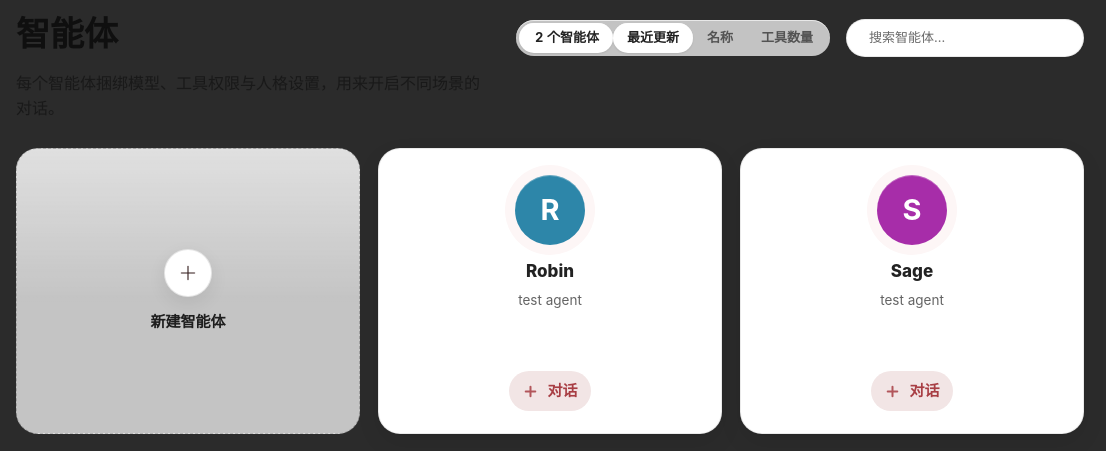
Test: AgentsPage — browse view › typing in the search input filters the visible card list
Expected: the number of elements with class "agent-card" is 2, [378, 148, 722, 434]; [740, 148, 1084, 434]
Type "rob" into the search field labelled "搜索智能体".
click(970, 38); type("rob")  # box [869, 28, 1071, 48]
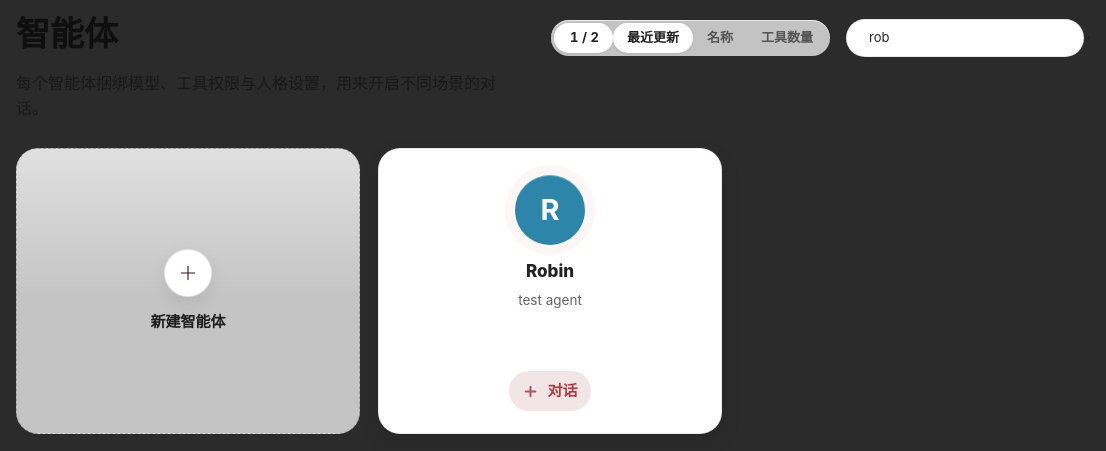
Expected: the number of elements with class "agent-card" is 1, [378, 148, 722, 434]
Now the button "Sage" is gone
Now the text "1 / 2" is shown, box [554, 23, 613, 53]
